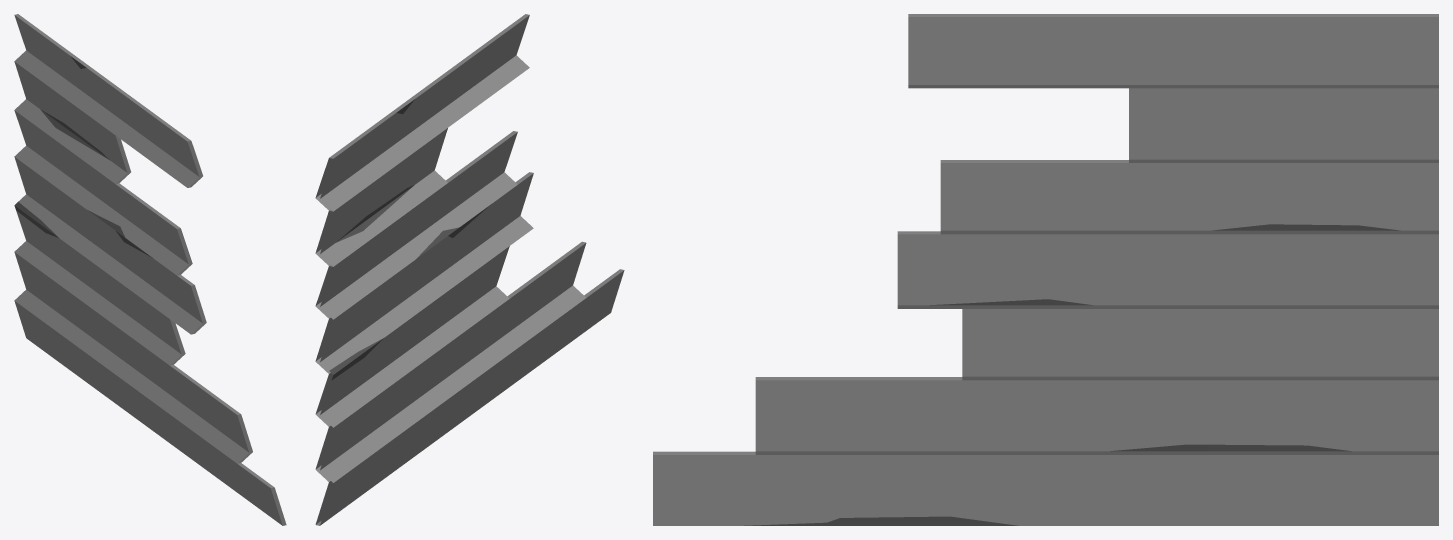
The model's file is builder_41.FBX.
3 views of the same model, side by side, from view 1: azimuth 30°, elevation 25°; view 2: azimuth 150°, elevation 25°; view 3: azimuth 270°, elevation 25° (orthographic). The views are drawn at different scales.
Visible parts, largest first — view 1: builder_41; view 2: builder_41; view 3: builder_41.
Part boxes in pixels (bbox=[...]): builder_41: bbox=[14, 14, 286, 525]; builder_41: bbox=[315, 14, 624, 525]; builder_41: bbox=[653, 14, 1438, 525].
Size of the model in its own units: 2.79 by 55.02 by 78.36.
